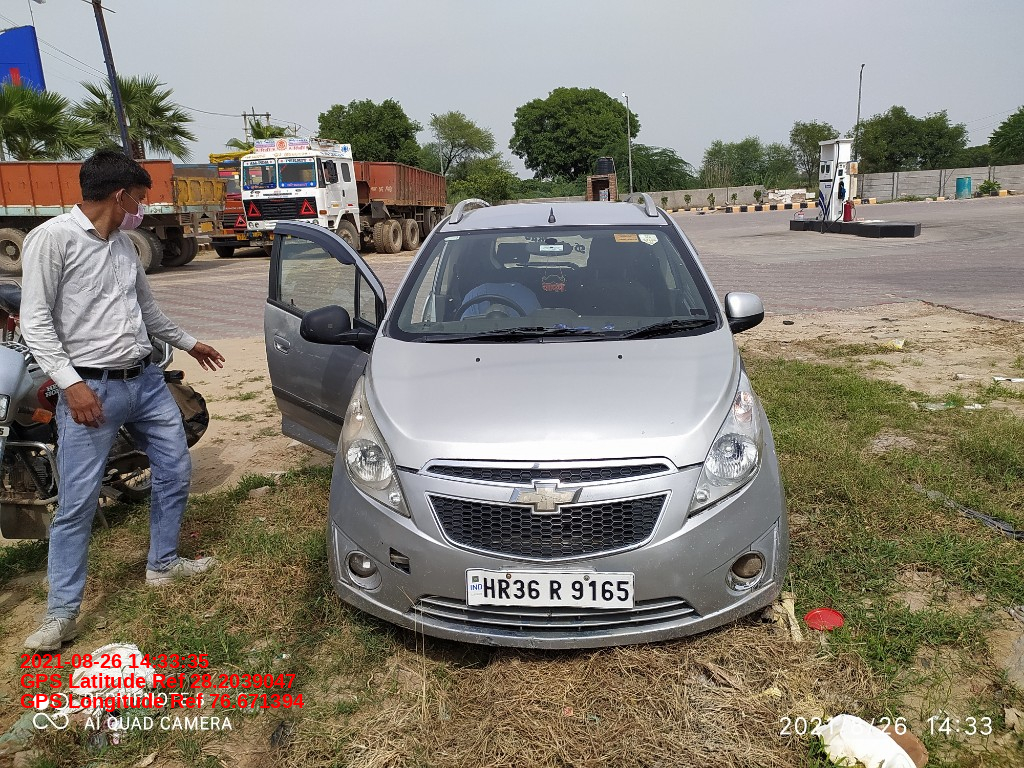Broken: (385, 545, 414, 577)
Scratched: (765, 522, 783, 579), (729, 576, 772, 595)
